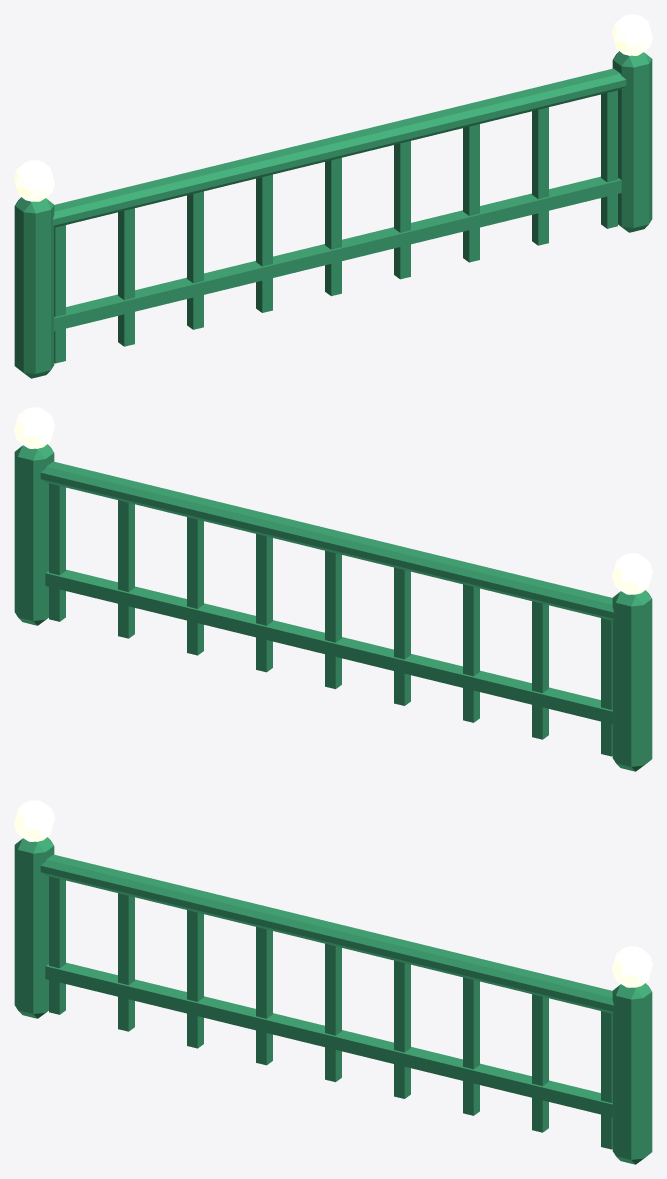
File: prop_fence.glb
3 views of the same model, one above another, from view 1: azimuth 30°, elevation 25°; view 2: azimuth 150°, elevation 25°; view 3: azimuth 330°, elevation 25° (orthographic).
Visible parts, largest first — view 1: prop_fence; view 2: prop_fence; view 3: prop_fence.
Boxes of the visible parts, x1=… form: prop_fence: x1=14, y1=14, x2=652, y2=378; prop_fence: x1=14, y1=407, x2=652, y2=771; prop_fence: x1=14, y1=800, x2=652, y2=1164.
Bounding box in the file's own units: 4.14 × 1.32 × 0.24.
